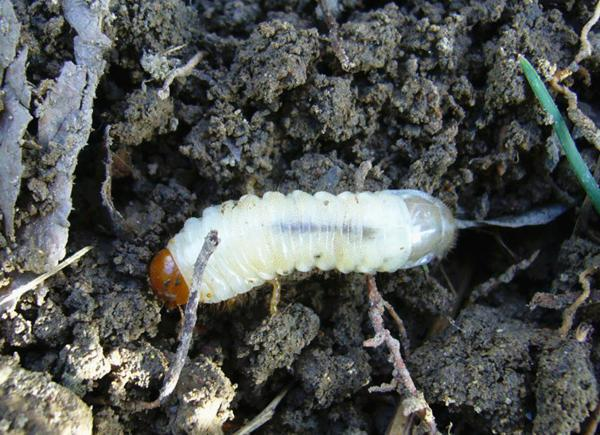grub: (148, 189, 461, 313)
